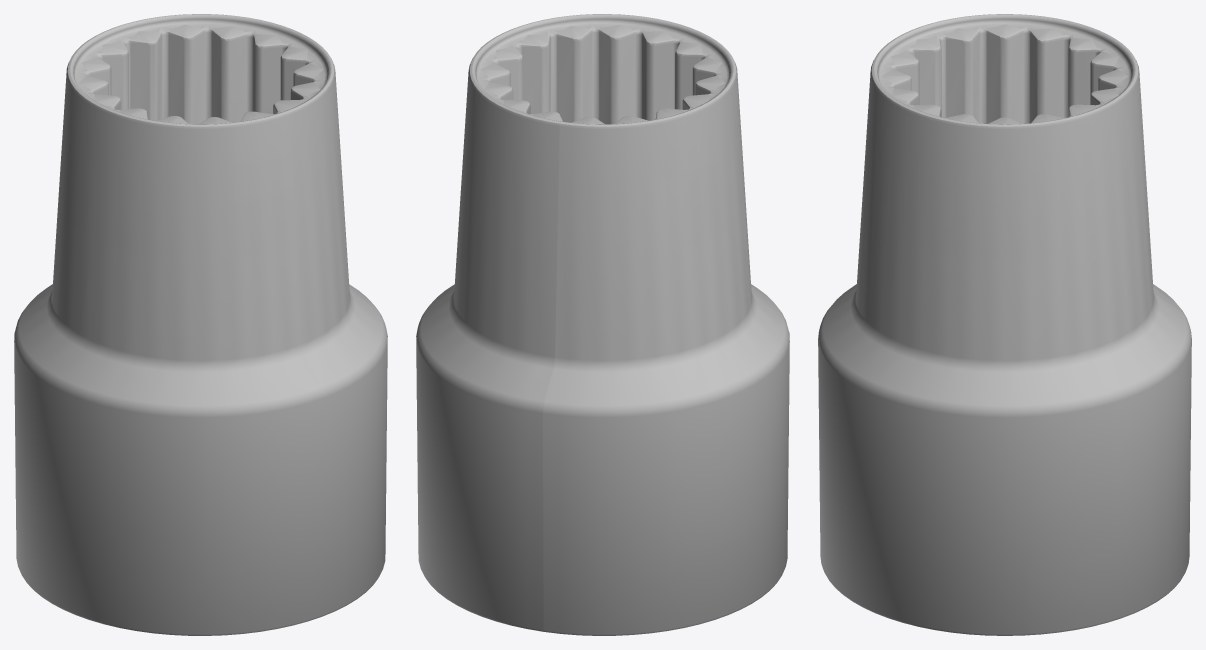
The model's file is handtool_socket_3_8in_a01.glb.
3 renders of one model, left to right at view 1: azimuth 30°, elevation 25°; view 2: azimuth 150°, elevation 25°; view 3: azimuth 270°, elevation 25°, orthographic.
Visible parts, largest first — view 1: part0; view 2: part0; view 3: part0.
Boxes of the visible parts, x1,y1,x2,y2 form: part0: (14, 14, 387, 635); part0: (416, 14, 789, 635); part0: (818, 14, 1191, 635).
Size of the model in its own units: 0.0303 by 0.0438 by 0.0303.
Materials: 1 (1 with a texture image).
